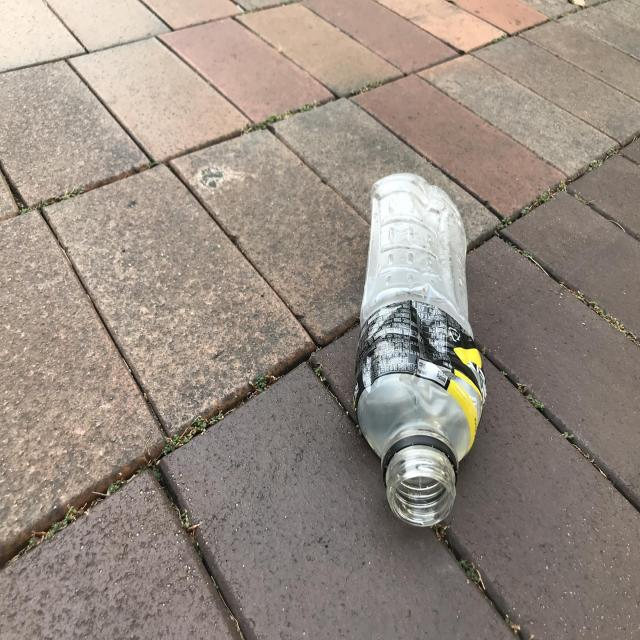plastic: (354, 172, 487, 526)
